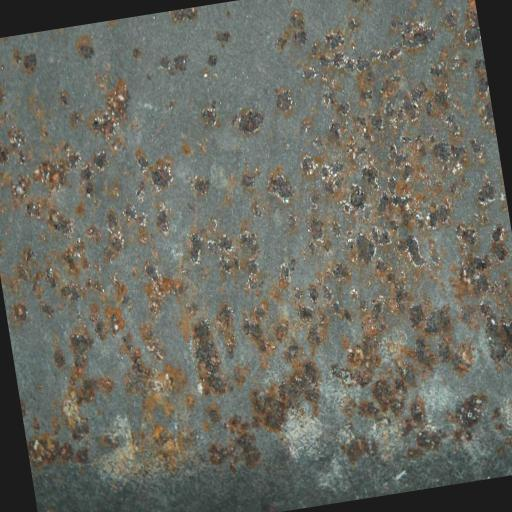segmentation: (0, 0, 512, 512)
